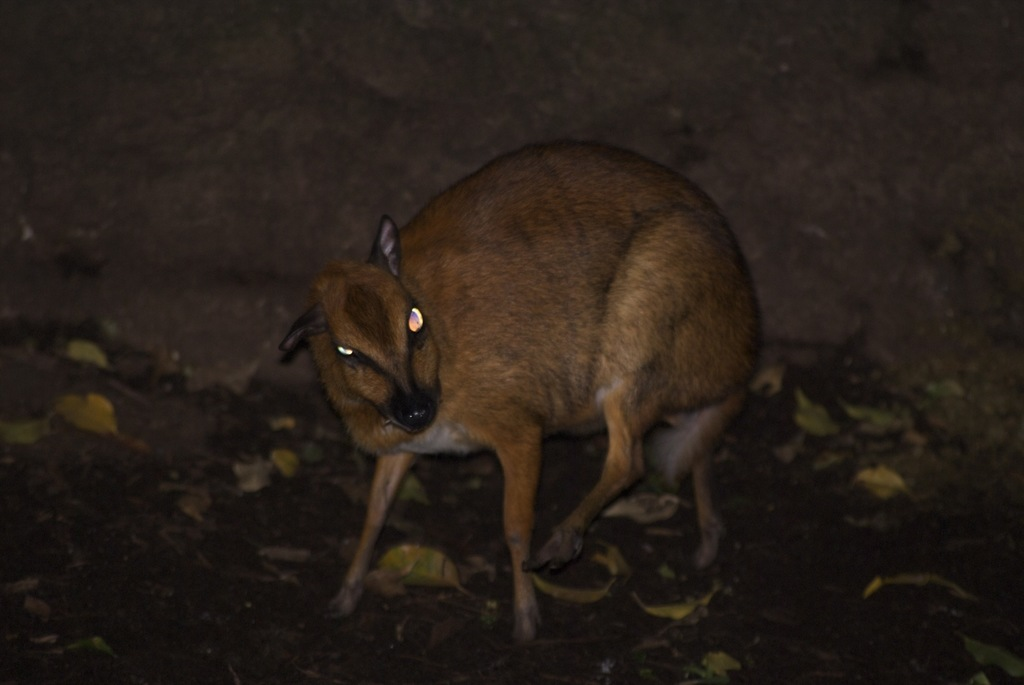Animal: (278, 138, 766, 641)
